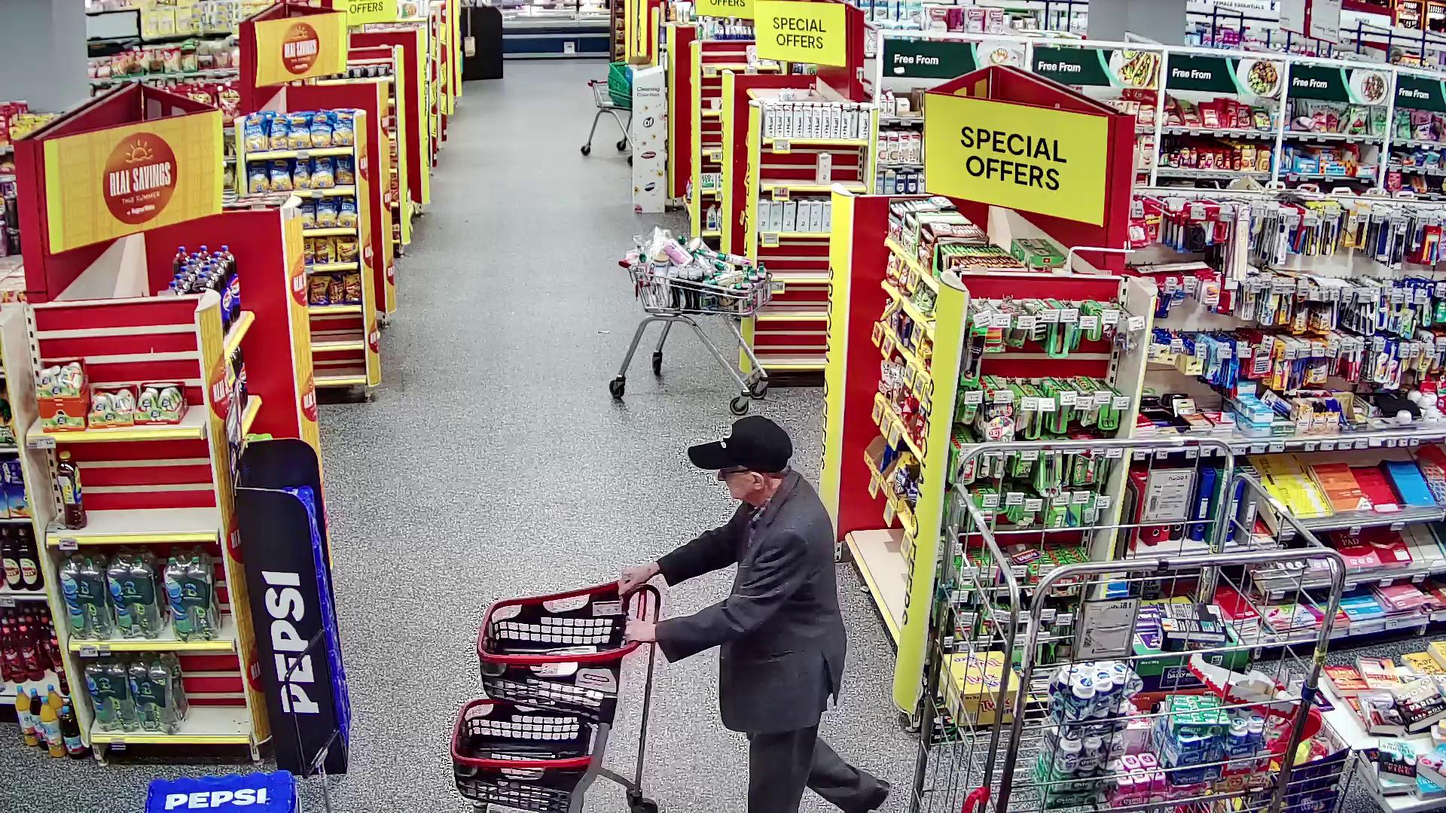empty-trolly: (449, 576, 660, 813)
person: (623, 415, 889, 813)
person-with-empty-basket-trolly: (450, 414, 889, 812)
